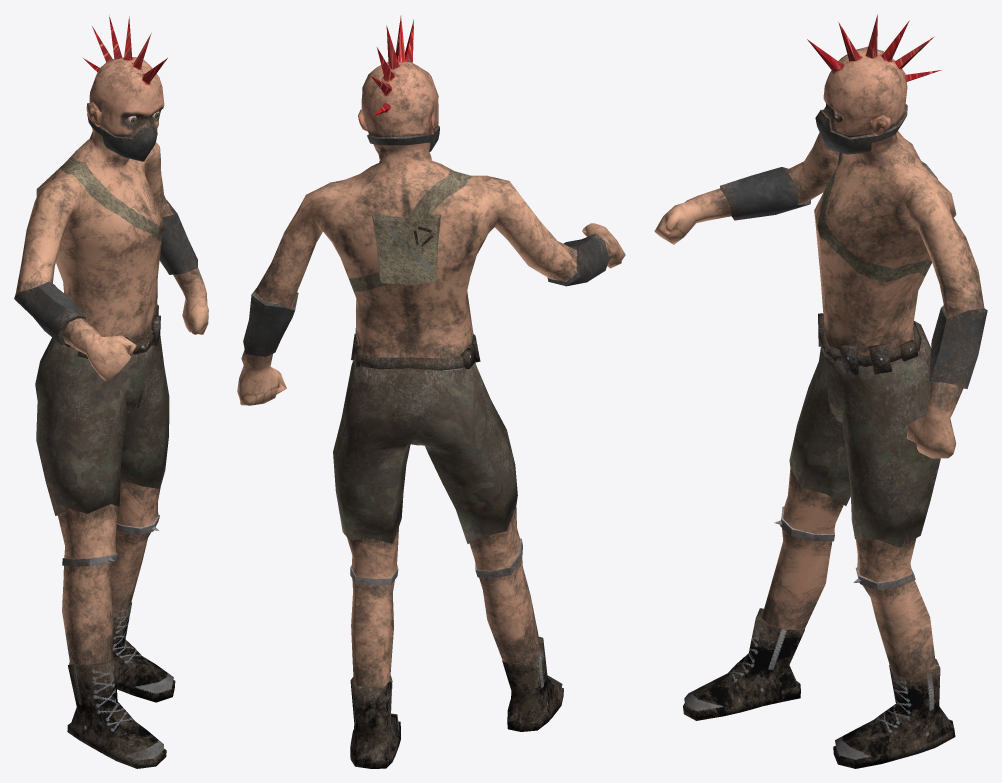
The model's file is Anim_disparar_pistola_npc2.0027.obj.
3 renders of one model, left to right at view 1: azimuth 30°, elevation 25°; view 2: azimuth 150°, elevation 25°; view 3: azimuth 270°, elevation 25°, orthographic. The views are drawn at different scales.
Parts seen in each view (by area): view 1: polySurface1; view 2: polySurface1; view 3: polySurface1.
Part boxes in pixels (x1,y1,x2,y2): polySurface1: (14,15,208,768); polySurface1: (237,15,625,768); polySurface1: (654,14,987,768).
Bounding box in the file's own units: 4.03 × 10.17 × 4.17.
2 materials, 2 textured.
